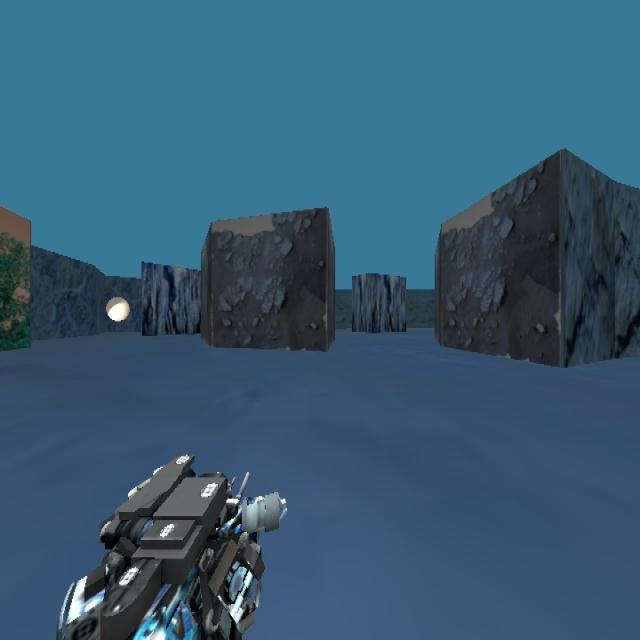Circle: (105, 296, 130, 323)
